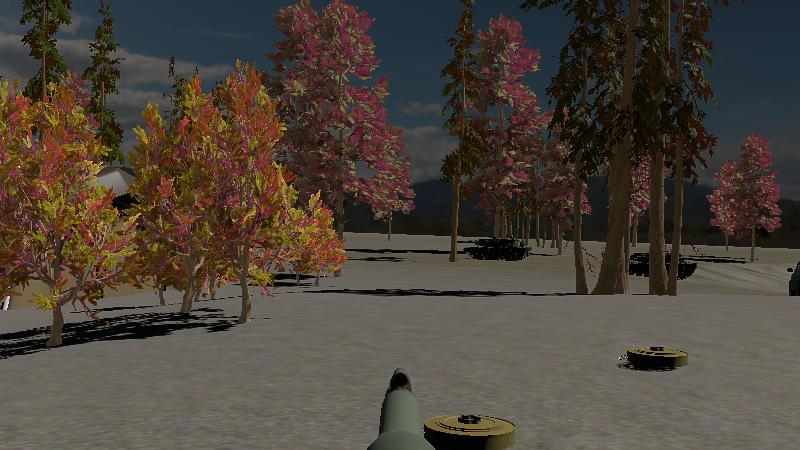Tank: (626, 239, 702, 281), (455, 234, 532, 262)
